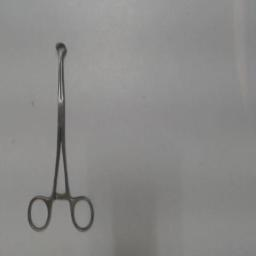Babcock Tissue Forceps: (26, 39, 96, 235)
